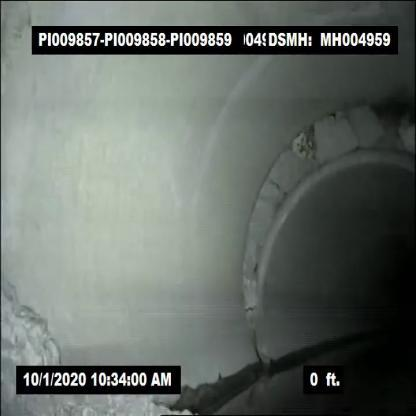jntoffs: (236, 90, 415, 340)
